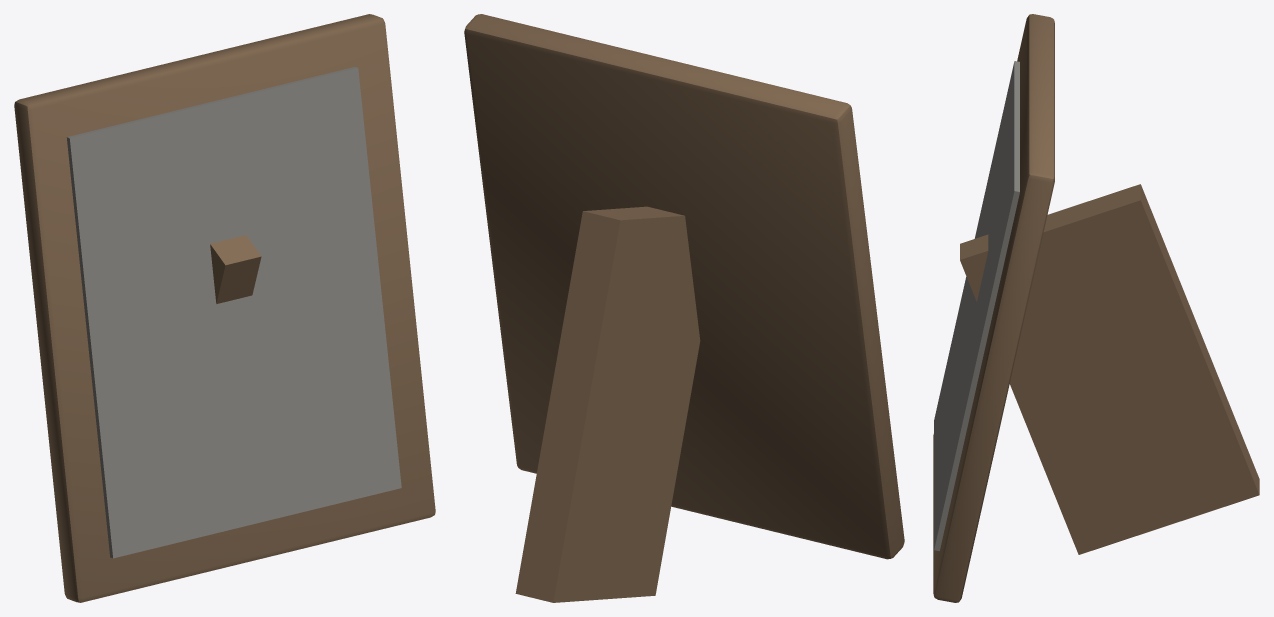
The model's file is photo_frame.glb.
3 renders of one model, left to right at view 1: azimuth 30°, elevation 25°; view 2: azimuth 150°, elevation 25°; view 3: azimuth 270°, elevation 25°, orthographic. The views are drawn at different scales.
Parts seen in each view (by area): view 1: photo_frame; view 2: photo_frame; view 3: photo_frame.
Boxes of the visible parts, x1,y1,x2,y2 form: photo_frame: [14, 14, 435, 602]; photo_frame: [464, 14, 904, 602]; photo_frame: [933, 14, 1259, 602].
Size of the model in its own units: 0.2 by 0.2601 by 0.1694.
